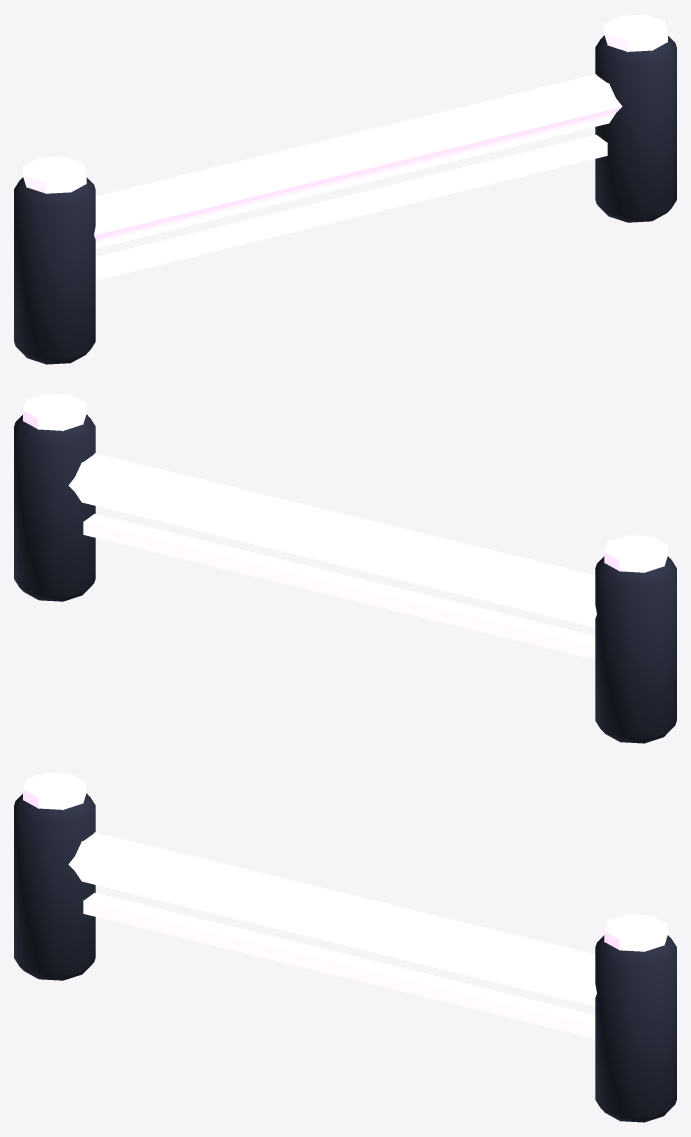
The model's file is gate.glb.
3 renders of one model, top to bottom at view 1: azimuth 30°, elevation 25°; view 2: azimuth 150°, elevation 25°; view 3: azimuth 330°, elevation 25°, orthographic.
Parts seen in each view (by area): view 1: gate; view 2: gate; view 3: gate.
Part boxes in pixels (x1=…): gate: x1=14, y1=14, x2=676, y2=364; gate: x1=14, y1=393, x2=676, y2=743; gate: x1=14, y1=772, x2=676, y2=1122.
Bounding box in the file's own units: 1.03 × 0.275 × 0.1085.
